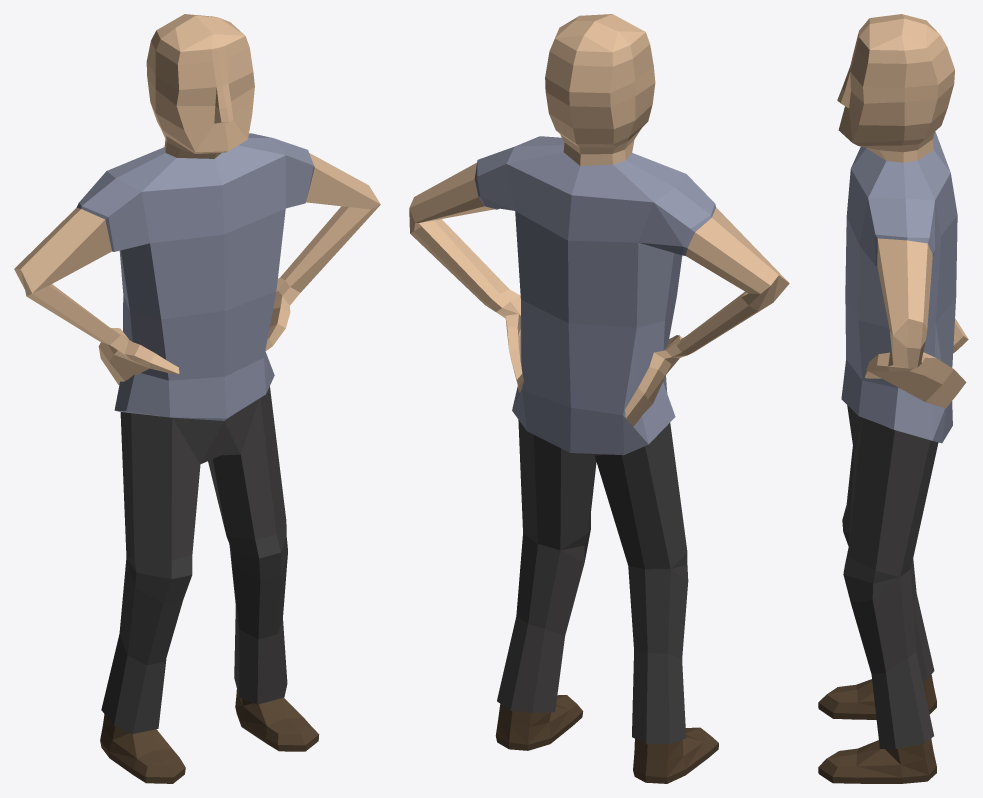
File: Male_Standing_Hips.glb
The picture shows the model from 3 angles, left to right: view 1: azimuth 30°, elevation 25°; view 2: azimuth 150°, elevation 25°; view 3: azimuth 270°, elevation 25°; orthographic projection.
Parts seen in each view (by area): view 1: Male_Standing_Hips; view 2: Male_Standing_Hips; view 3: Male_Standing_Hips.
Boxes of the visible parts, left/top/right/bottom form: Male_Standing_Hips: left=14, top=14, right=380, bottom=783; Male_Standing_Hips: left=409, top=14, right=789, bottom=783; Male_Standing_Hips: left=818, top=14, right=968, bottom=783.
Size of the model in its own units: 1.98 by 3.82 by 0.7207.
